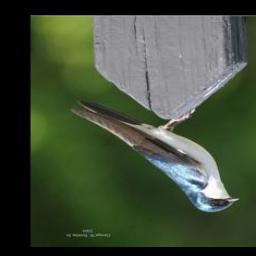Swallow: (70, 100, 241, 213)
